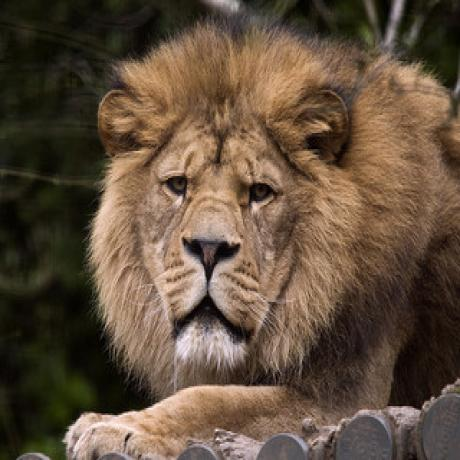Lion: (67, 16, 460, 460)
